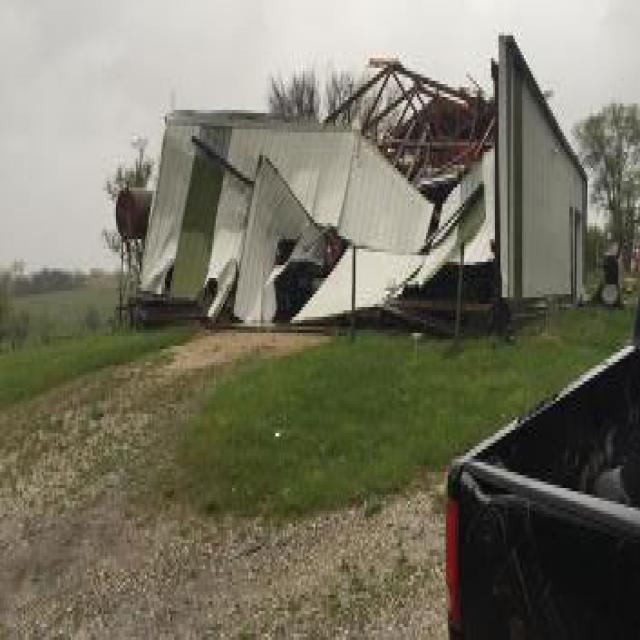Severely_Damaged: (107, 47, 505, 348)
